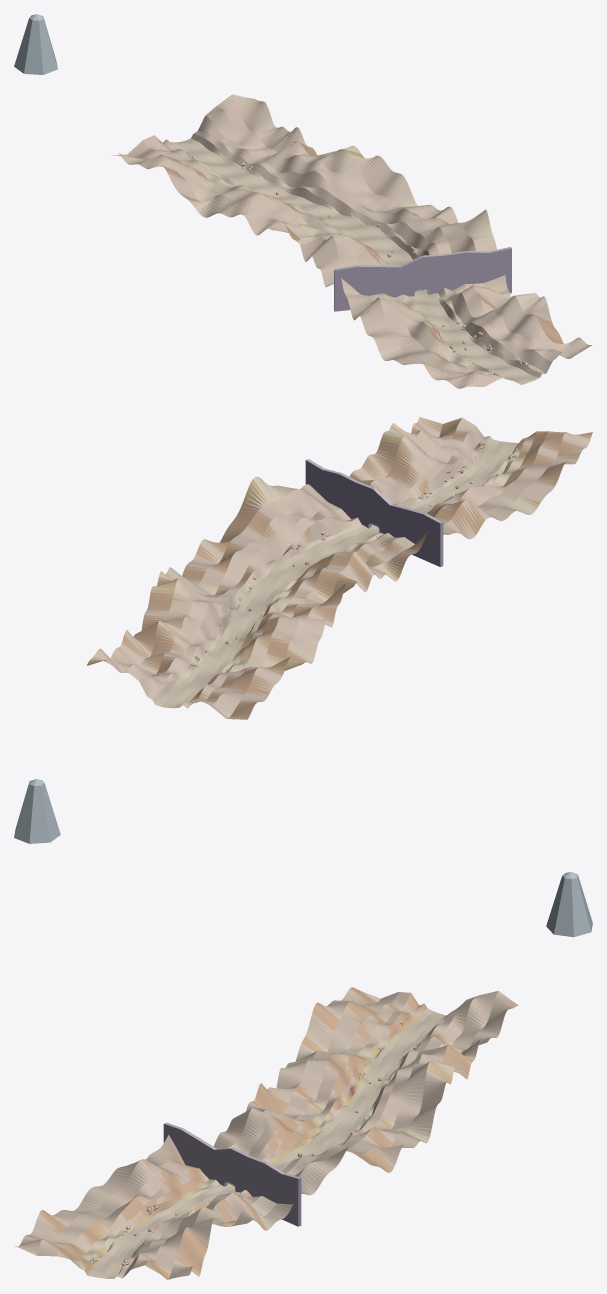
The model's file is level_2.glb.
3 views of the same model, one above another, from view 1: azimuth 30°, elevation 25°; view 2: azimuth 150°, elevation 25°; view 3: azimuth 330°, elevation 25° (orthographic). The views are drawn at different scales.
Parts seen in each view (by area): view 1: terrain_5, terrain_1, terrain_6, terrain_0, terrain_4, wall_0, terrain_3, terrain_7, terrain_2, landmark; view 2: terrain_3, terrain_5, terrain_4, terrain_1, terrain_0, terrain_6, wall_0, terrain_2, terrain_7, landmark; view 3: terrain_0, terrain_6, terrain_5, terrain_1, terrain_4, terrain_3, wall_0, terrain_2, terrain_7, landmark.
Boxes of the visible parts, x1=… form: terrain_5: x1=198, y1=146, x2=384, y2=235; terrain_1: x1=359, y1=292, x2=543, y2=364; terrain_6: x1=135, y1=123, x2=316, y2=211; terrain_0: x1=402, y1=296, x2=591, y2=388; terrain_4: x1=266, y1=161, x2=453, y2=260; wall_0: x1=334, y1=247, x2=511, y2=311; terrain_3: x1=305, y1=209, x2=495, y2=287; terrain_7: x1=109, y1=94, x2=273, y2=164; terrain_2: x1=331, y1=241, x2=510, y2=320; landmark: x1=14, y1=14, x2=57, y2=74; terrain_3: x1=213, y1=476, x2=409, y2=592; terrain_5: x1=141, y1=571, x2=334, y2=663; terrain_4: x1=165, y1=539, x2=364, y2=616; terrain_1: x1=350, y1=424, x2=551, y2=529; terrain_0: x1=392, y1=417, x2=592, y2=490; terrain_6: x1=110, y1=620, x2=308, y2=694; wall_0: x1=305, y1=459, x2=443, y2=566; terrain_2: x1=296, y1=476, x2=479, y2=557; terrain_7: x1=87, y1=648, x2=268, y2=719; landmark: x1=14, y1=779, x2=60, y2=843; terrain_0: x1=15, y1=1210, x2=213, y2=1279; terrain_6: x1=296, y1=1000, x2=499, y2=1075; terrain_5: x1=276, y1=1050, x2=468, y2=1110; terrain_1: x1=55, y1=1159, x2=254, y2=1241; terrain_4: x1=246, y1=1083, x2=444, y2=1148; terrain_3: x1=213, y1=1108, x2=400, y2=1175; wall_0: x1=163, y1=1122, x2=301, y2=1226; terrain_2: x1=145, y1=1135, x2=325, y2=1230; terrain_7: x1=339, y1=987, x2=518, y2=1035; landmark: x1=546, y1=872, x2=592, y2=937.
Bounding box in the file's own units: 586 × 190 × 2568.
